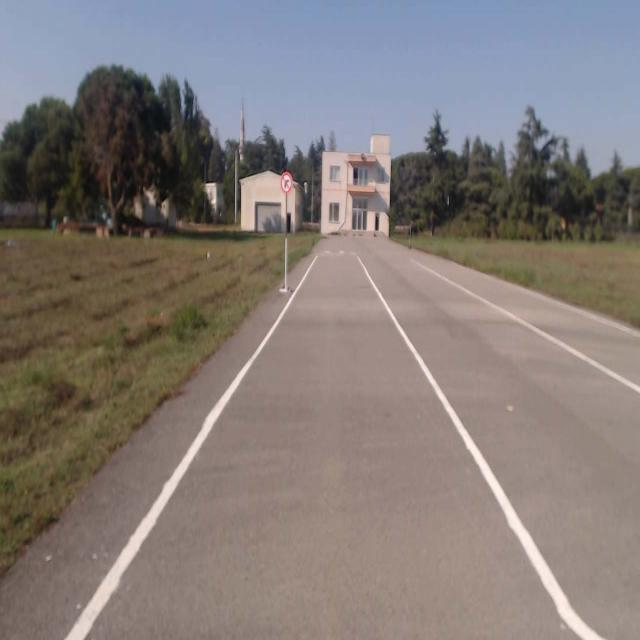sagadonulmez: (282, 172, 290, 192)
